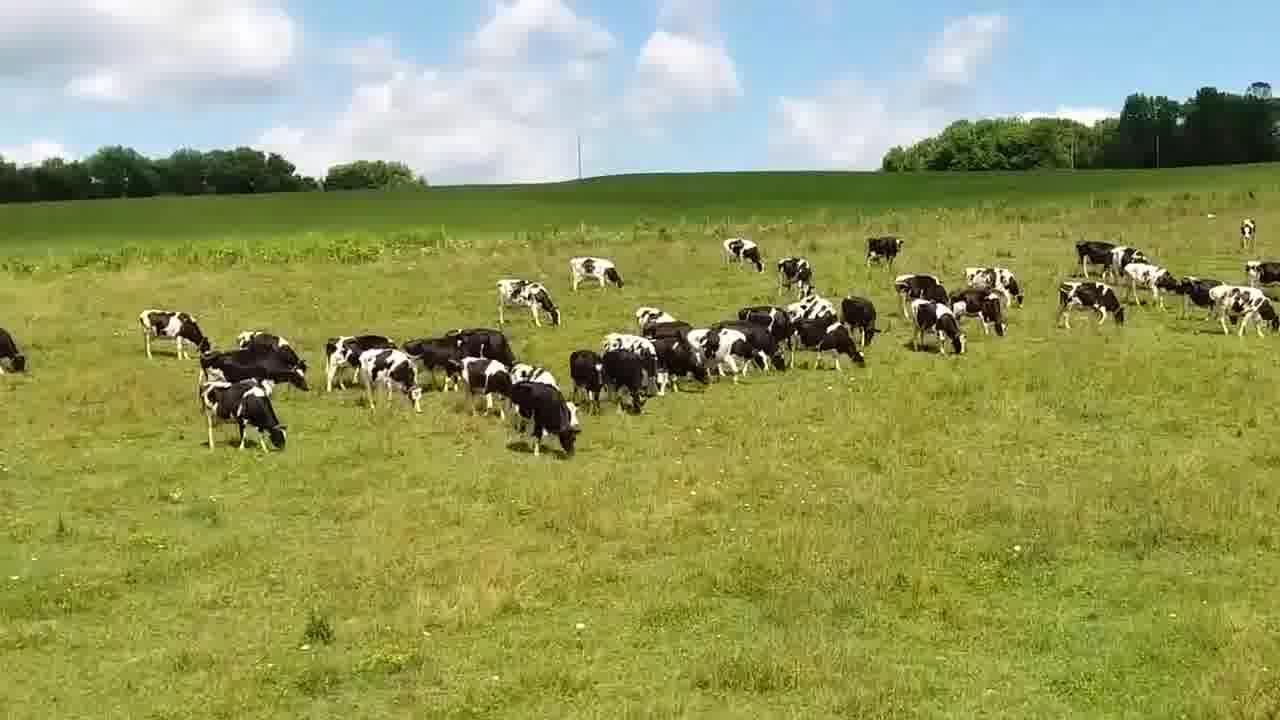cow: (198, 375, 293, 461), (504, 375, 582, 463), (598, 327, 675, 404), (199, 351, 315, 397), (356, 348, 429, 416), (320, 336, 409, 391), (1050, 276, 1130, 331), (137, 306, 215, 362), (1208, 285, 1280, 342), (793, 322, 870, 375), (682, 323, 747, 385), (907, 296, 968, 358), (406, 334, 470, 392), (494, 273, 564, 326), (452, 353, 512, 413), (602, 350, 652, 418), (961, 262, 1031, 309), (1123, 261, 1181, 317), (952, 286, 1011, 339), (733, 323, 791, 375), (444, 325, 521, 364), (570, 346, 609, 418), (567, 253, 629, 295), (237, 327, 306, 364), (1075, 239, 1144, 275), (842, 292, 878, 349), (717, 235, 766, 276), (861, 233, 907, 275), (633, 301, 686, 337), (0, 319, 32, 378), (1175, 273, 1226, 307), (774, 252, 815, 294), (894, 273, 951, 303), (787, 290, 835, 319), (1243, 258, 1280, 290), (1235, 216, 1262, 252)
